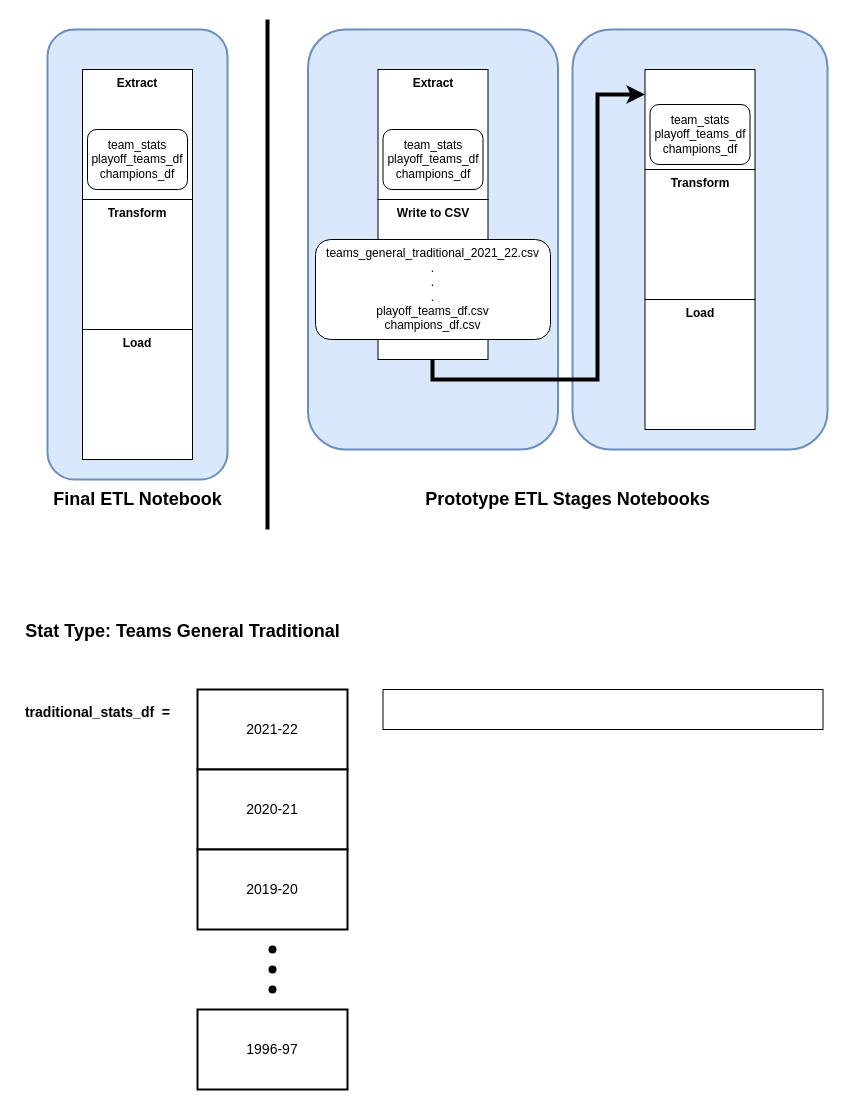
Some shapes in this 845 by 1107 pixel diagram are drawn without their labels. The box of each missing label's shape, as (x1, y1, x2, y2) in pixels:
nba_stats_ETL.ipynb: (46, 28, 228, 480)
nba_stats_extract_stage.ipynb: (306, 28, 558, 450)
nba_stats_transform_stage.ipynb: (571, 28, 828, 450)
Read from CSV: (644, 68, 755, 170)
traditional_stats_df [ traditional_stats_df [ "season" ] == "1996-97" ]: (382, 688, 823, 730)
